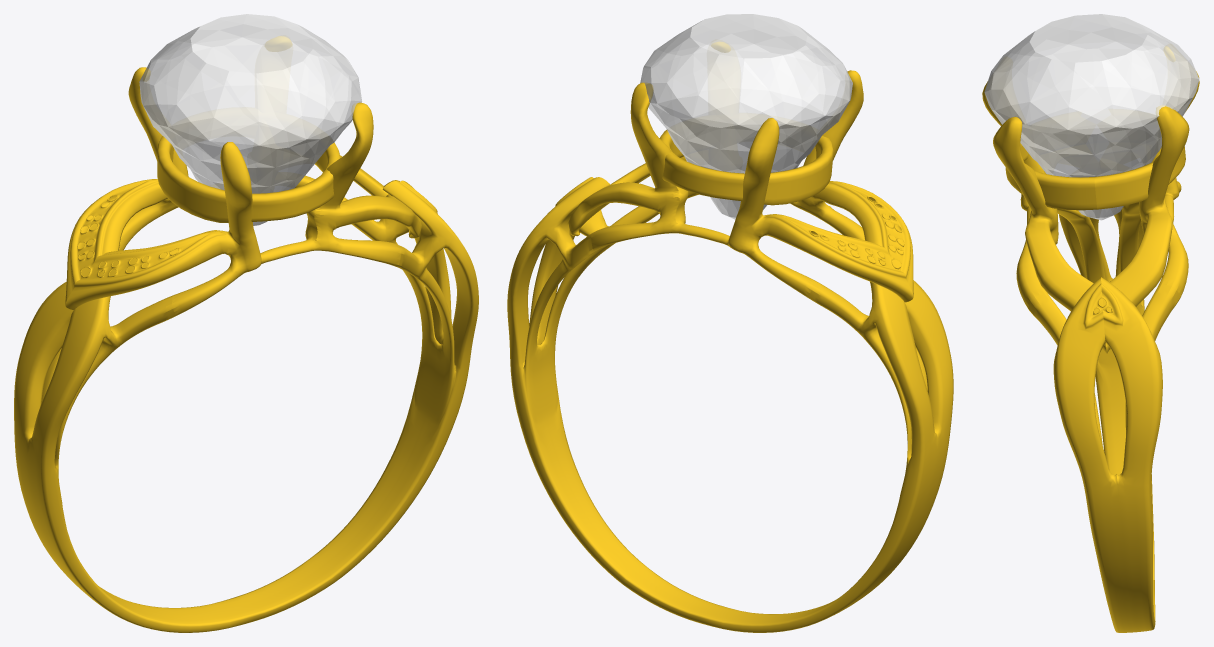
Rendered from jeweled-ring-tone-map-test.fbx.
3 views of the same model, side by side, from view 1: azimuth 30°, elevation 25°; view 2: azimuth 150°, elevation 25°; view 3: azimuth 270°, elevation 25° (orthographic). The views are drawn at different scales.
Parts seen in each view (by area): view 1: Ring, Diamond_Primary; view 2: Ring, Diamond_Primary; view 3: Ring, Diamond_Primary.
Part boxes in pixels (left/top/right/bottom): Ring: left=14, top=36, right=478, bottom=632; Diamond_Primary: left=139, top=14, right=361, bottom=225; Ring: left=507, top=42, right=953, bottom=632; Diamond_Primary: left=640, top=14, right=852, bottom=219; Ring: left=982, top=46, right=1199, bottom=632; Diamond_Primary: left=984, top=14, right=1199, bottom=220.
Size of the model in its own units: 37.37 by 49.63 by 17.08.
